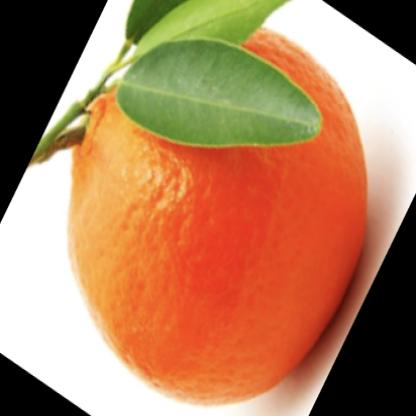fresh: (69, 20, 369, 405)
